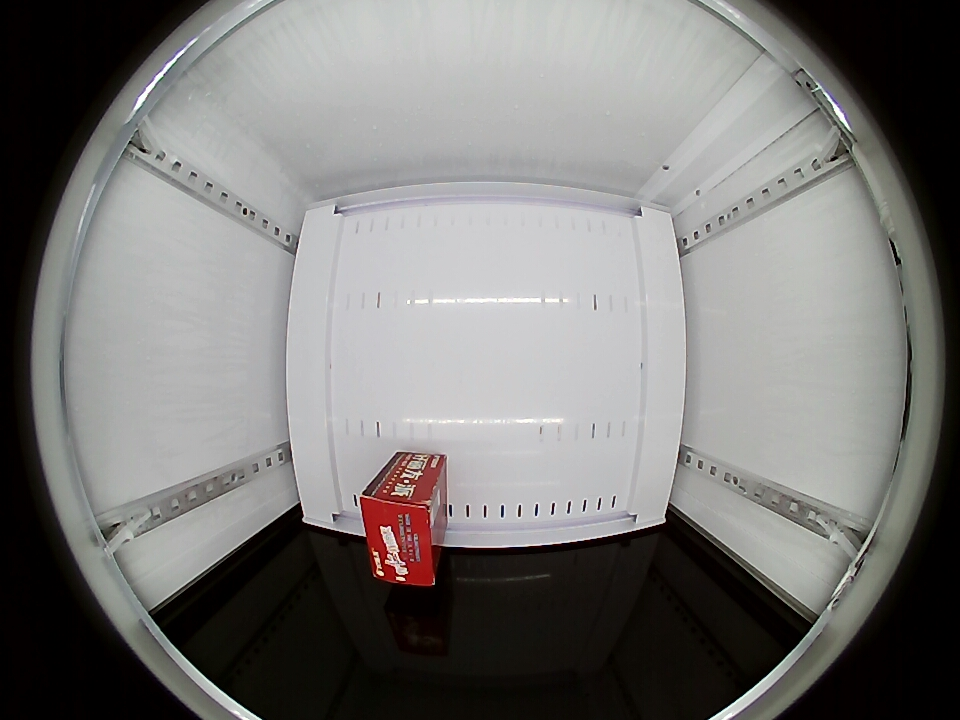haoliyou: (359, 473, 441, 586)
